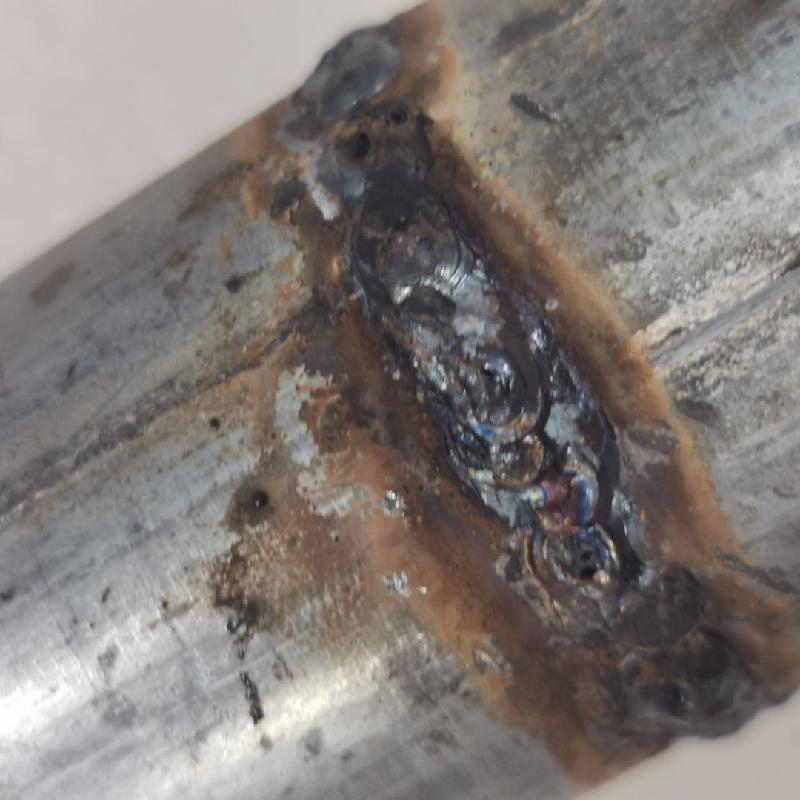Surface_pores: (328, 97, 417, 175), (566, 536, 616, 596)
crater: (416, 340, 703, 644)
wrong_size: (299, 36, 468, 295)
